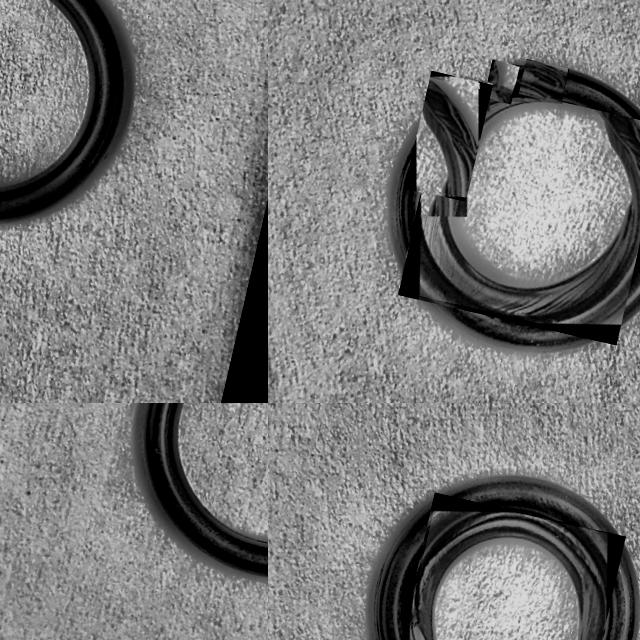切割缺陷: (424, 78, 476, 197), (523, 60, 567, 103)
挤压缺陷: (485, 59, 513, 101)
裂纹: (419, 97, 640, 323), (410, 512, 606, 640)
